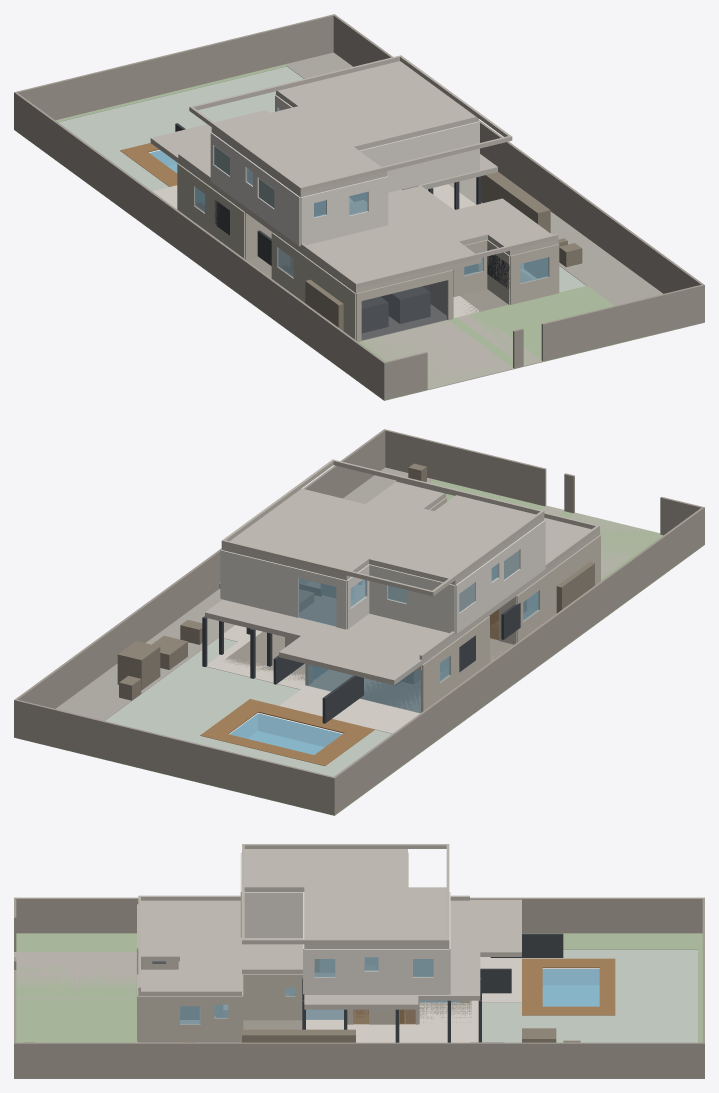
The model's file is porto-real.obj.
3 views of the same model, one above another, from view 1: azimuth 30°, elevation 25°; view 2: azimuth 150°, elevation 25°; view 3: azimuth 270°, elevation 25° (orthographic). The views are drawn at different scales.
Size of the model in its own units: 20 by 8.15 by 40.
